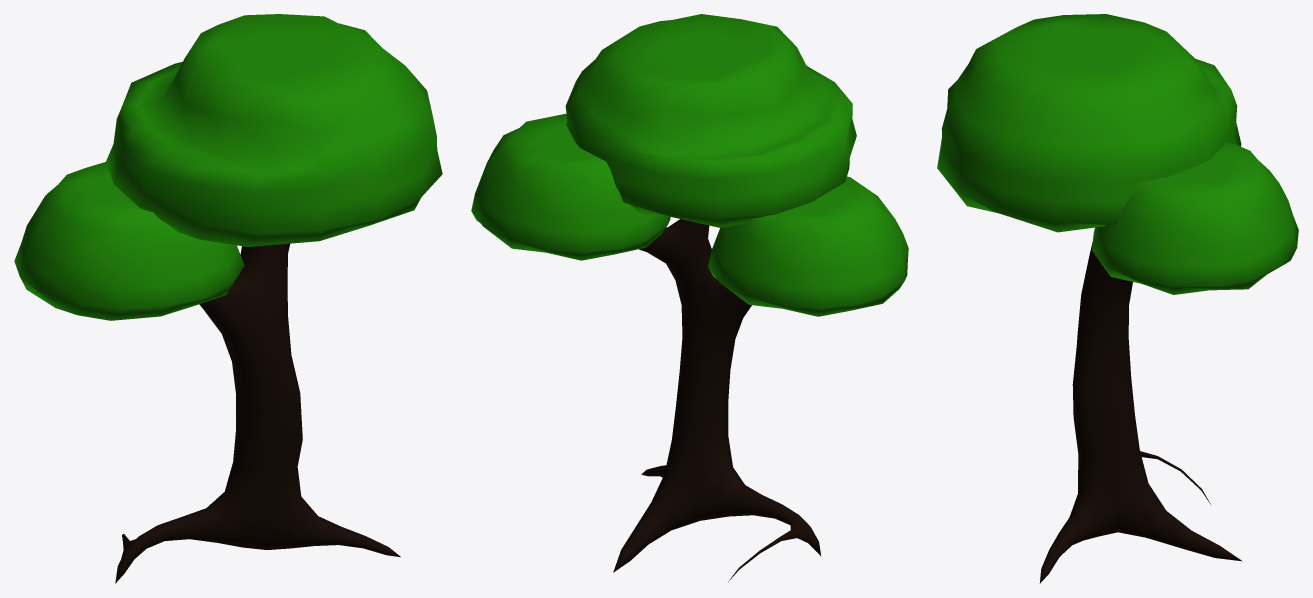
The model's file is SM_Giant_Tree_12.FBX.
3 views of the same model, side by side, from view 1: azimuth 30°, elevation 25°; view 2: azimuth 150°, elevation 25°; view 3: azimuth 270°, elevation 25° (orthographic). The views are drawn at different scales.
Visible parts, largest first — view 1: SM_Giant_Tree_12; view 2: SM_Giant_Tree_12; view 3: SM_Giant_Tree_12.
Boxes of the visible parts, bbox=[...] form: SM_Giant_Tree_12: bbox=[14, 14, 442, 583]; SM_Giant_Tree_12: bbox=[471, 14, 908, 581]; SM_Giant_Tree_12: bbox=[937, 14, 1298, 583].
Size of the model in its own units: 17.55 by 20.9 by 13.66.
